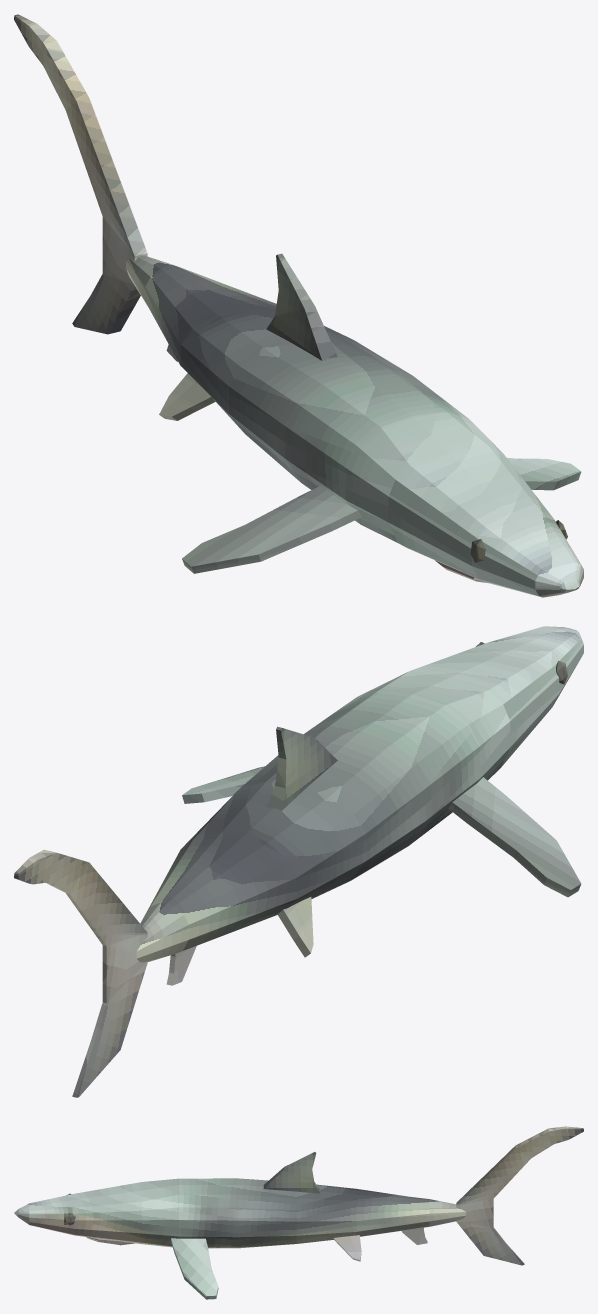
The model's file is BlueShark.glb.
3 views of the same model, one above another, from view 1: azimuth 30°, elevation 25°; view 2: azimuth 150°, elevation 25°; view 3: azimuth 270°, elevation 25° (orthographic). The views are drawn at different scales.
Visible parts, largest first — view 1: BlueShark; view 2: BlueShark; view 3: BlueShark.
Part boxes in pixels (x1,y1,x2,y2): BlueShark: [14, 14, 583, 597]; BlueShark: [14, 626, 583, 1097]; BlueShark: [14, 1126, 583, 1299].
Size of the model in its own units: 3.59 by 2.38 by 8.92.
Materials: 1 (1 with a texture image).
